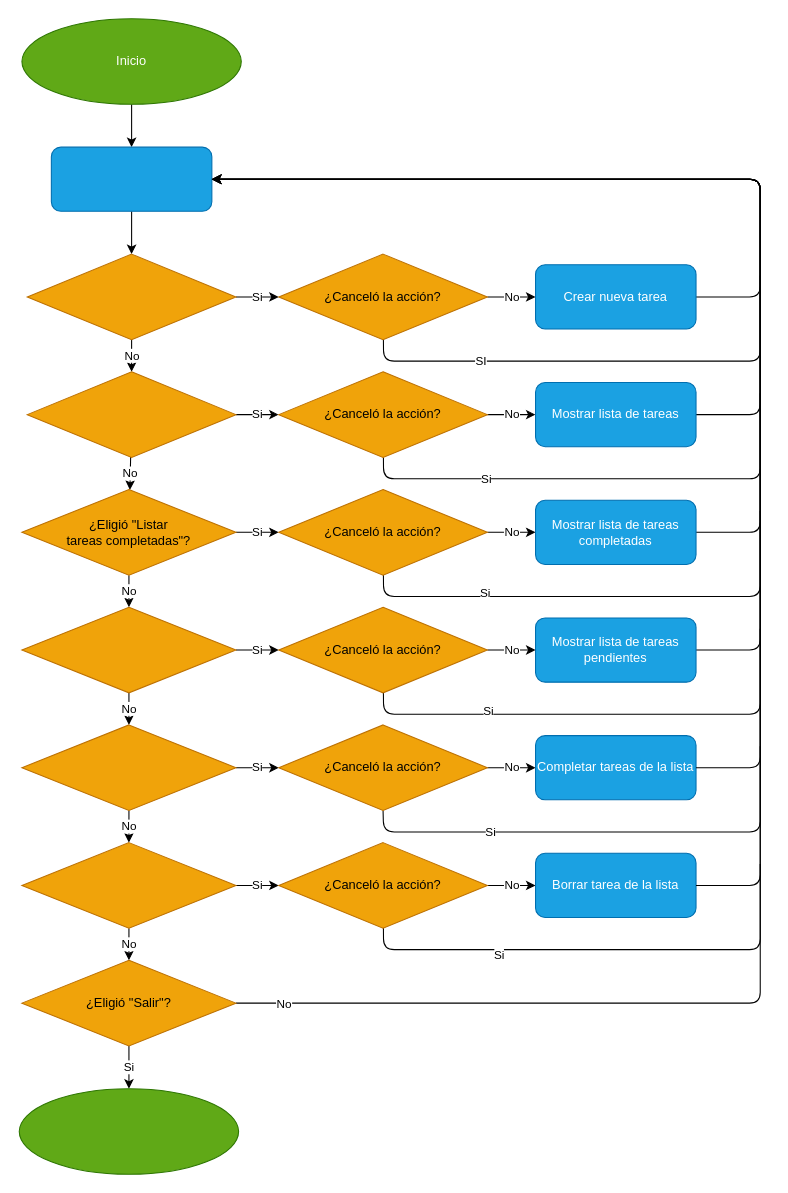
The diagram is 788 pixels wide and 1193 high, and some of its shapes have lost their labels. The shapes that lost their labels are listed below. From the top down, each one's centre as x and y in pixels, then its label:
(x=131, y=178): Mostrar menú
(x=131, y=296): ¿Eligió "Crear tarea"?
(x=131, y=414): ¿Eligió "Listar tarea"?
(x=128, y=649): ¿Eligió "Listar tareas pendientes"?
(x=128, y=767): ¿Eligió "Completar tareas"?
(x=128, y=885): ¿Eligió "Borrar tarea"?
(x=128, y=1131): Fin
